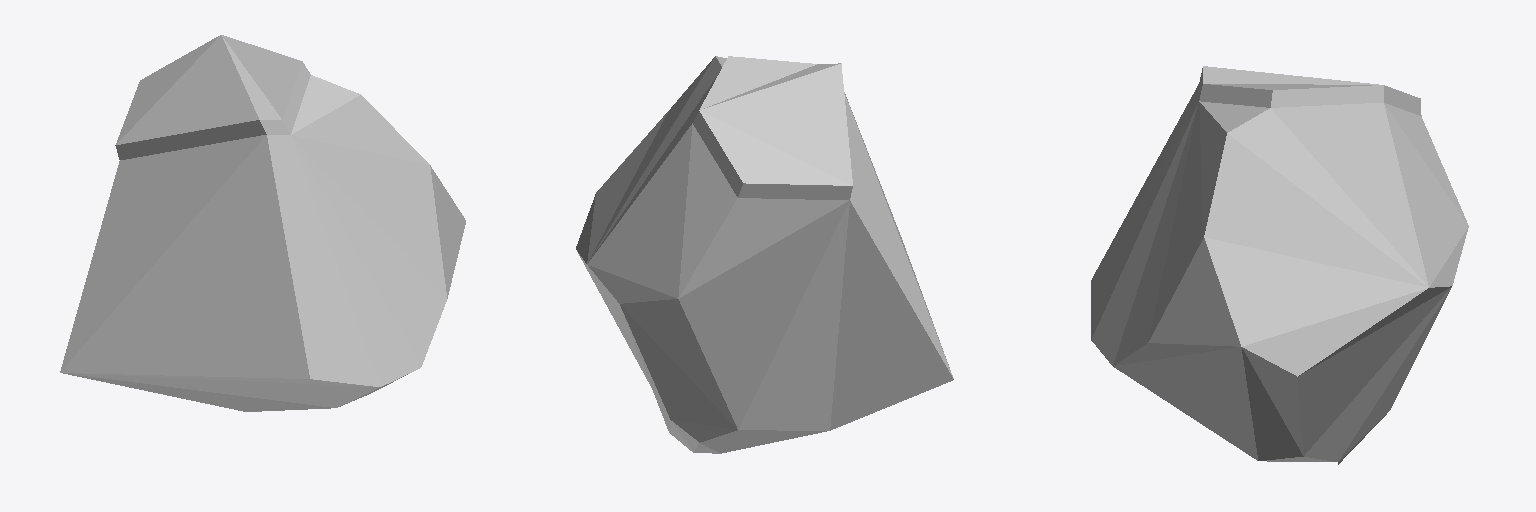
Rendered from Rock_5.obj.
3 renders of one model, left to right at view 1: azimuth 30°, elevation 25°; view 2: azimuth 150°, elevation 25°; view 3: azimuth 270°, elevation 25°, orthographic.
Parts seen in each view (by area): view 1: Cube.007_Cube.008; view 2: Cube.007_Cube.008; view 3: Cube.007_Cube.008.
Boxes of the visible parts, x1=… form: Cube.007_Cube.008: x1=60, y1=35, x2=465, y2=411; Cube.007_Cube.008: x1=576, y1=56, x2=953, y2=453; Cube.007_Cube.008: x1=1091, y1=66, x2=1468, y2=464.
Size of the model in its own units: 2.33 by 2.18 by 2.